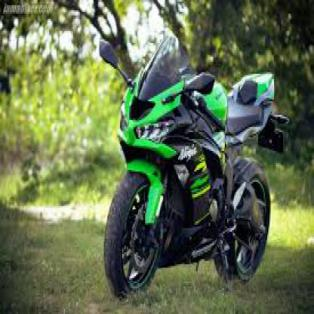Motocicleta: (91, 30, 292, 304)
